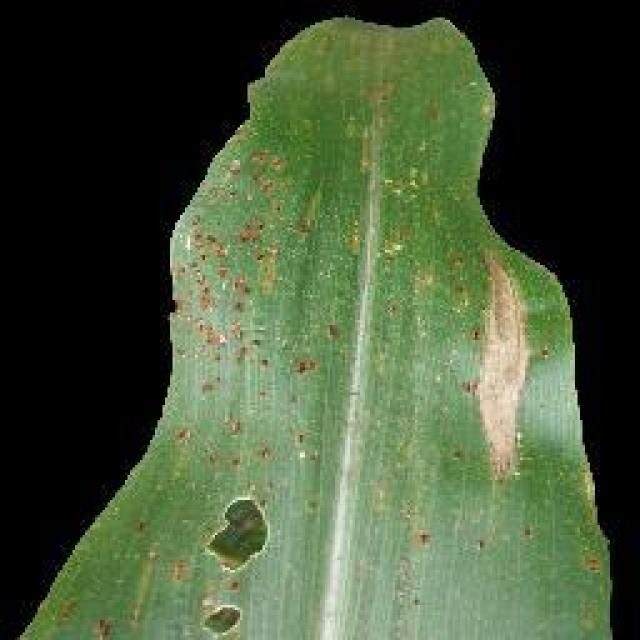Corn Common Rust: (35, 76, 477, 572)
